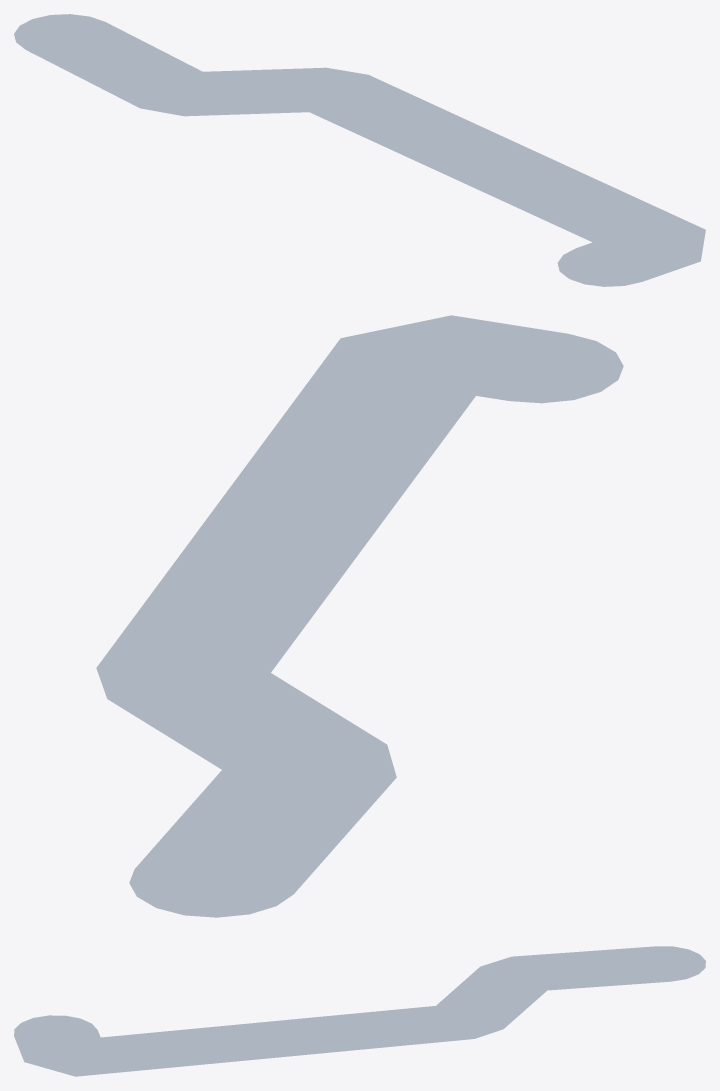
The model's file is SM_MPR_Env_Far_S_Hardstand.fbx.
3 views of the same model, one above another, from view 1: azimuth 30°, elevation 25°; view 2: azimuth 150°, elevation 25°; view 3: azimuth 270°, elevation 25° (orthographic). The views are drawn at different scales.
Parts seen in each view (by area): view 1: SM_MPR_Env_Far_S_Hardstand; view 2: SM_MPR_Env_Far_S_Hardstand; view 3: SM_MPR_Env_Far_S_Hardstand.
Boxes of the visible parts, x1,y1,x2,y2 form: SM_MPR_Env_Far_S_Hardstand: [14, 14, 705, 286]; SM_MPR_Env_Far_S_Hardstand: [96, 315, 623, 917]; SM_MPR_Env_Far_S_Hardstand: [14, 946, 705, 1076].
Bounding box in the file's own units: 1815 × 4069 × 0.
